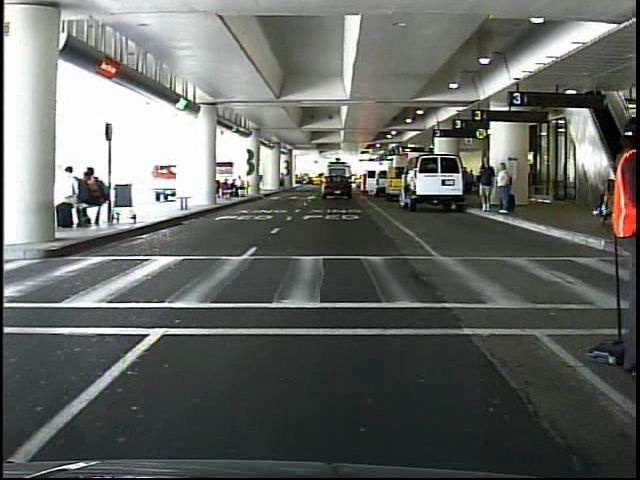person: (599, 110, 640, 379), (495, 158, 516, 220), (476, 153, 495, 217), (319, 170, 330, 194)
